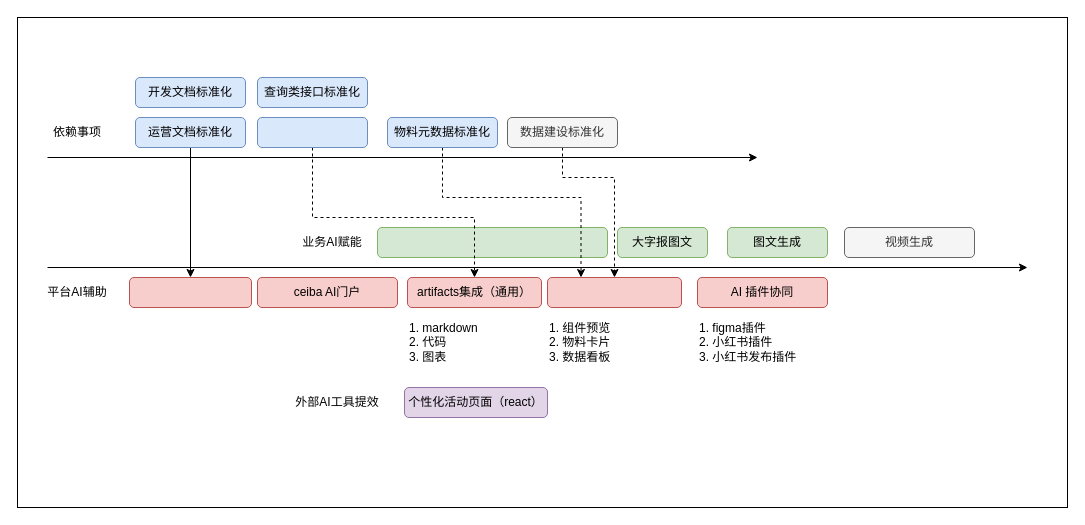
Some shapes in this 1085 by 525 pixel diagram are drawn without their labels. Here are the shapes that lost their labels. From the top down, the centre of each, then its label:
the point at 312,132: 组件开发模式固化
the point at 492,242: 小红书（爬取 -> 分析 -> 文本生成
the point at 190,292: 企业微信QA
the point at 614,292: artifacts集成（业务）
